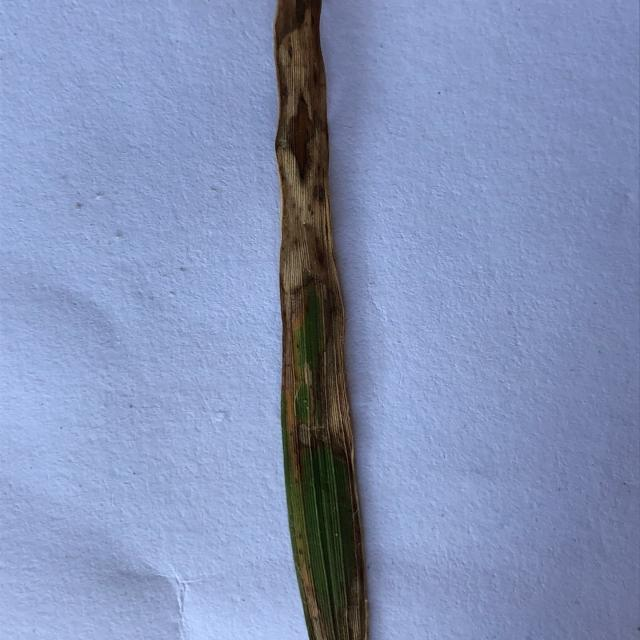Leaf Blight: (275, 0, 366, 640)
